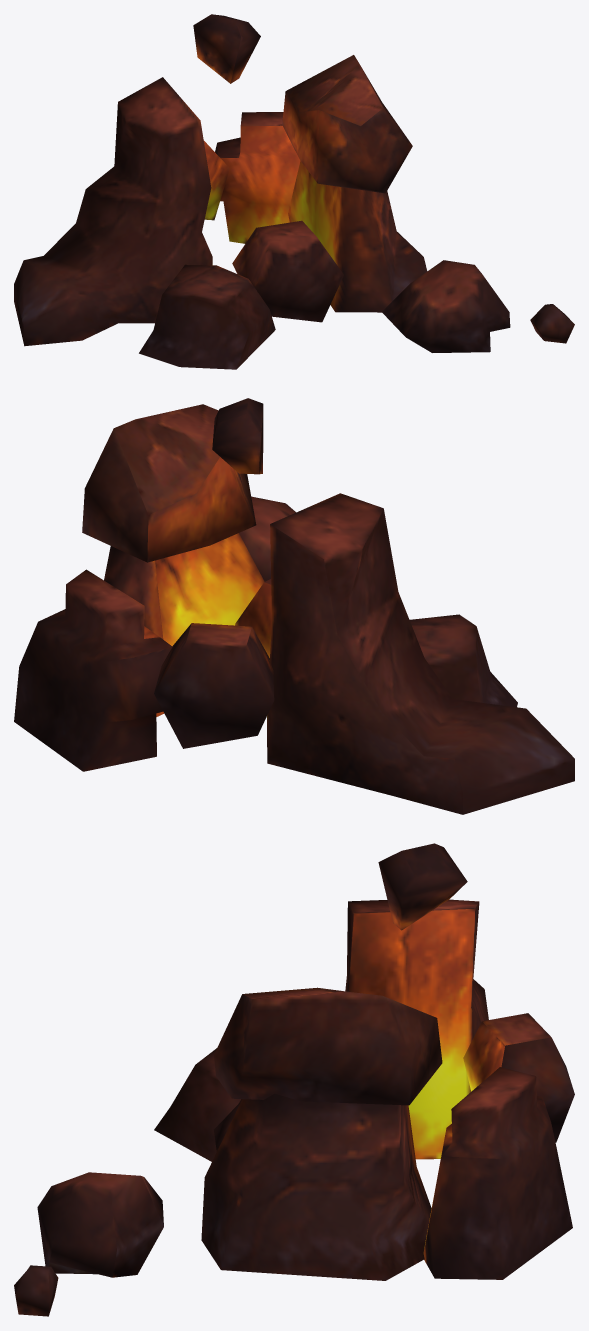
Rendered from huoguanpenghuoshizhu02.FBX.
3 renders of one model, top to bottom at view 1: azimuth 30°, elevation 25°; view 2: azimuth 150°, elevation 25°; view 3: azimuth 270°, elevation 25°, orthographic. The views are drawn at different scales.
Parts seen in each view (by area): view 1: huoguanpenghuoshizhu2; view 2: huoguanpenghuoshizhu2; view 3: huoguanpenghuoshizhu2.
Boxes of the visible parts, left/top/right/bottom form: huoguanpenghuoshizhu2: left=14, top=14, right=574, bottom=369; huoguanpenghuoshizhu2: left=14, top=398, right=574, bottom=814; huoguanpenghuoshizhu2: left=14, top=843, right=574, bottom=1316.
Bounding box in the file's own units: 518 × 446 × 305.
